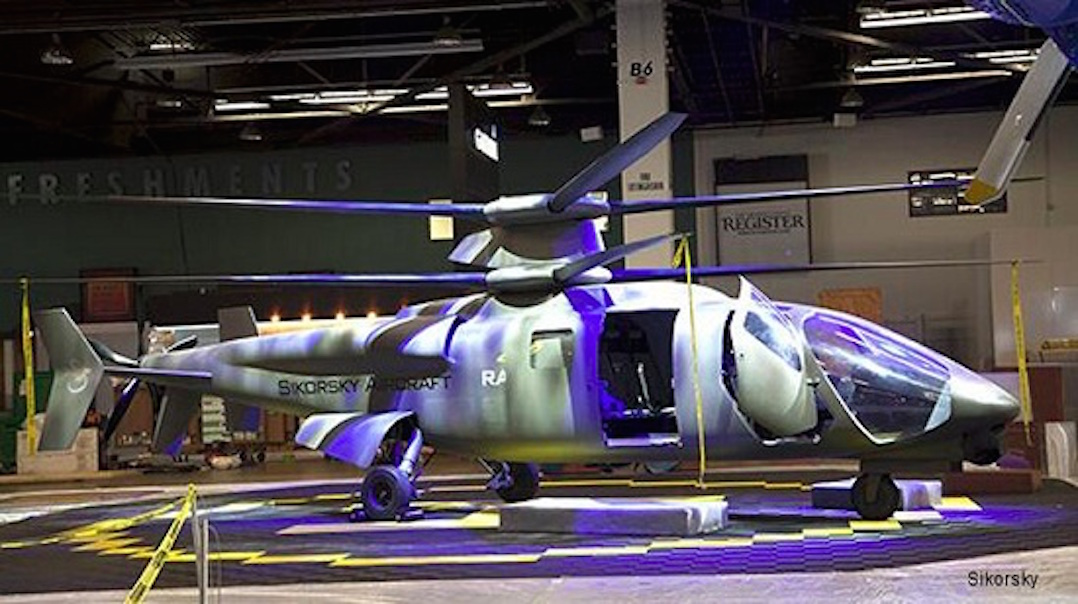MilitaryHelicopter: (33, 173, 1055, 510)
